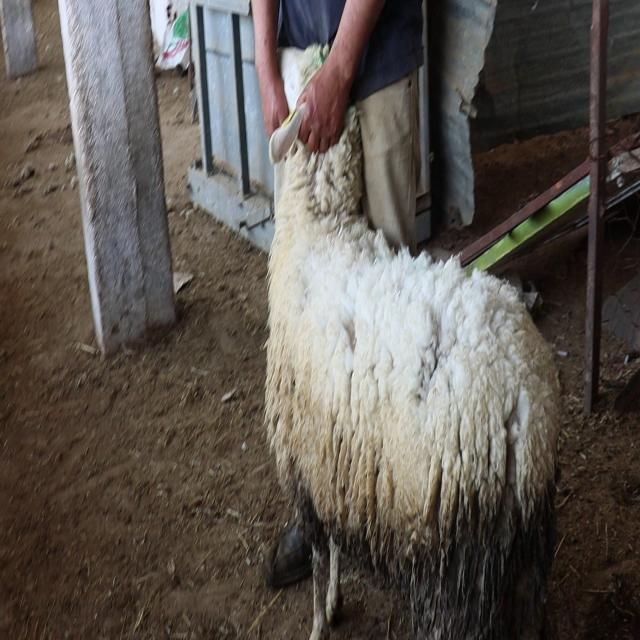Score_4: (264, 44, 560, 639)
